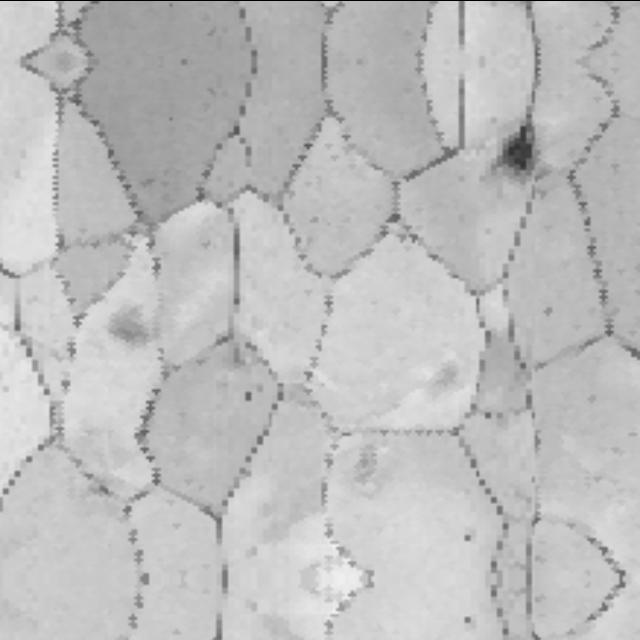good_void: (480, 122, 548, 189), (103, 293, 155, 353), (544, 301, 557, 320), (481, 407, 499, 419), (242, 388, 255, 403), (458, 532, 475, 542), (458, 616, 475, 626)
